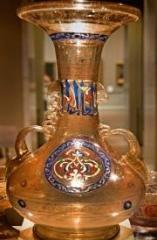glass: (9, 4, 146, 240), (130, 166, 157, 240)
